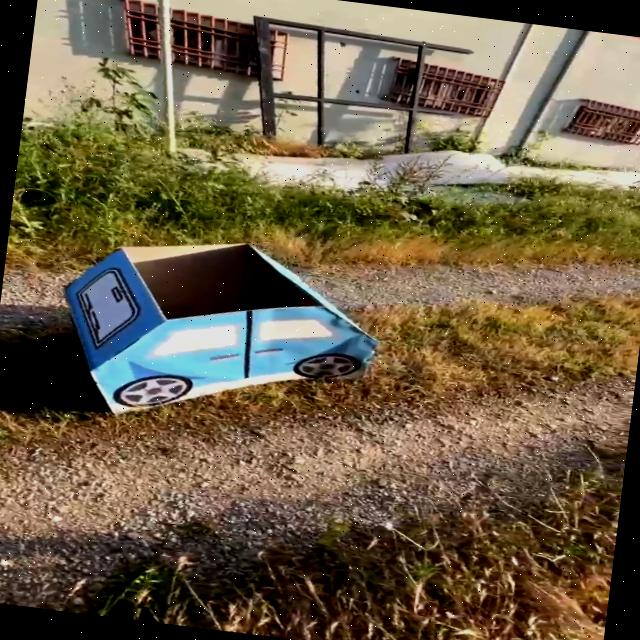blue_car: (15, 197, 457, 469)
